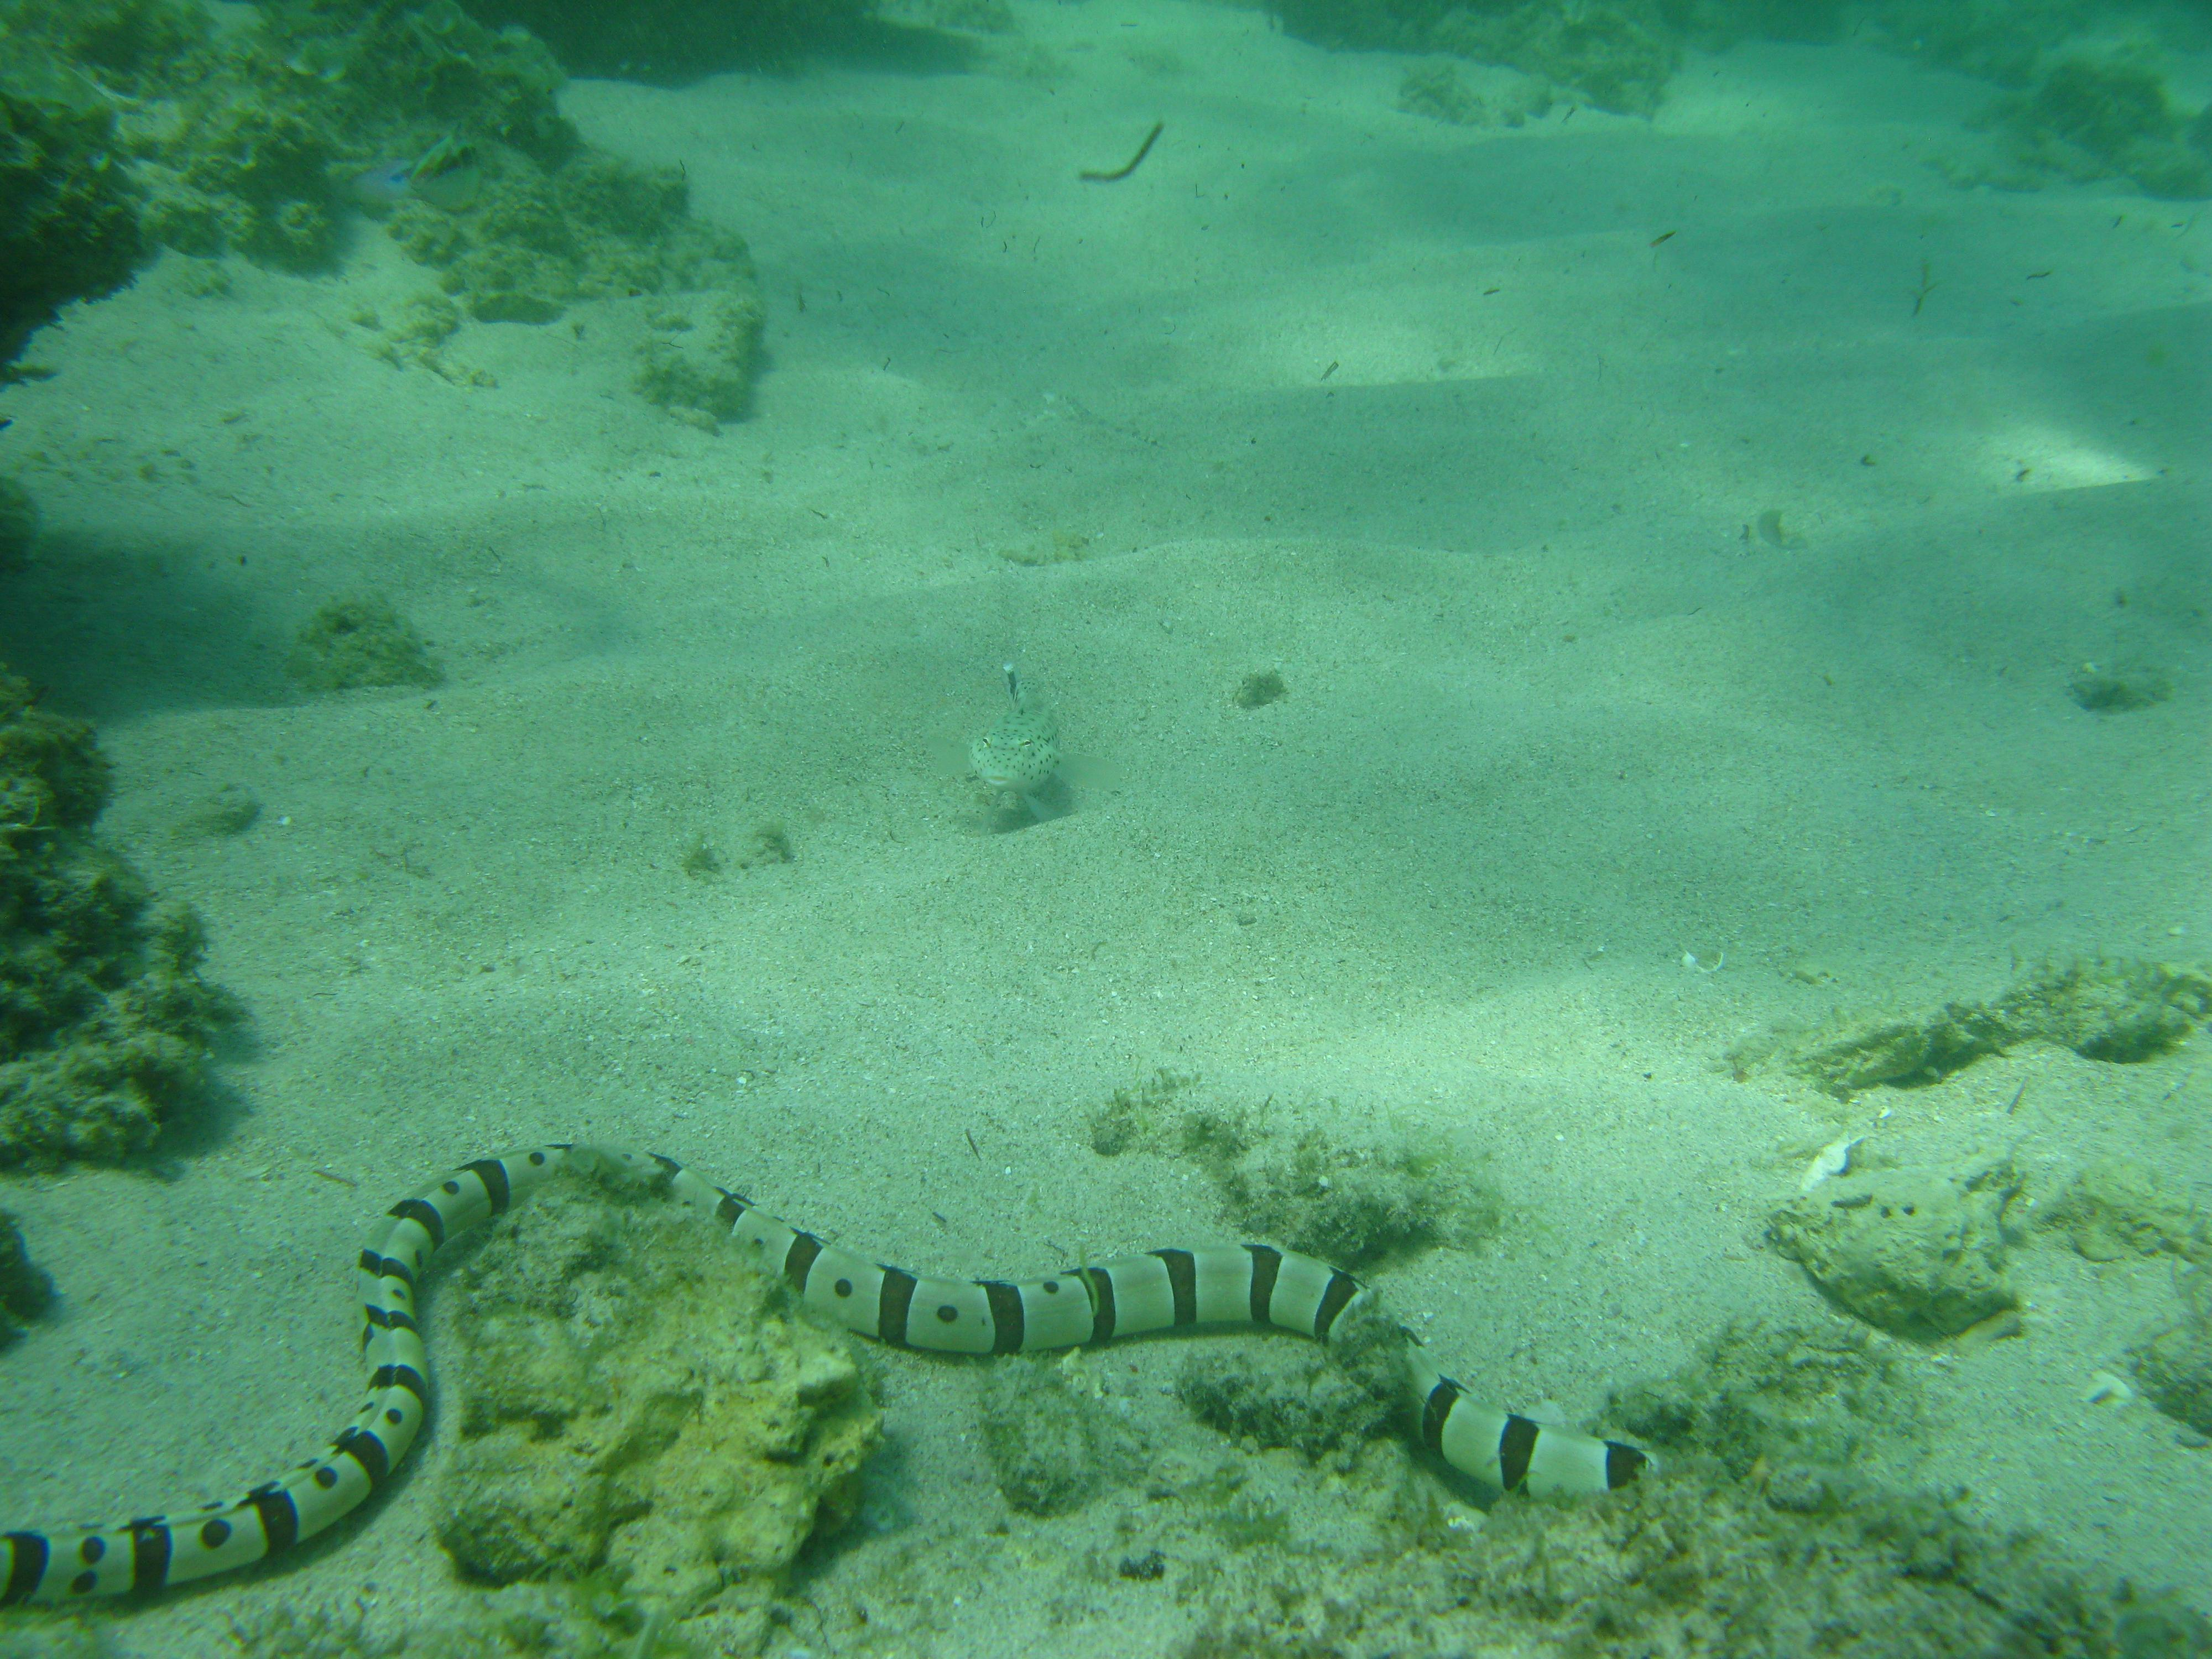Fish: (0, 1131, 1655, 1659)
